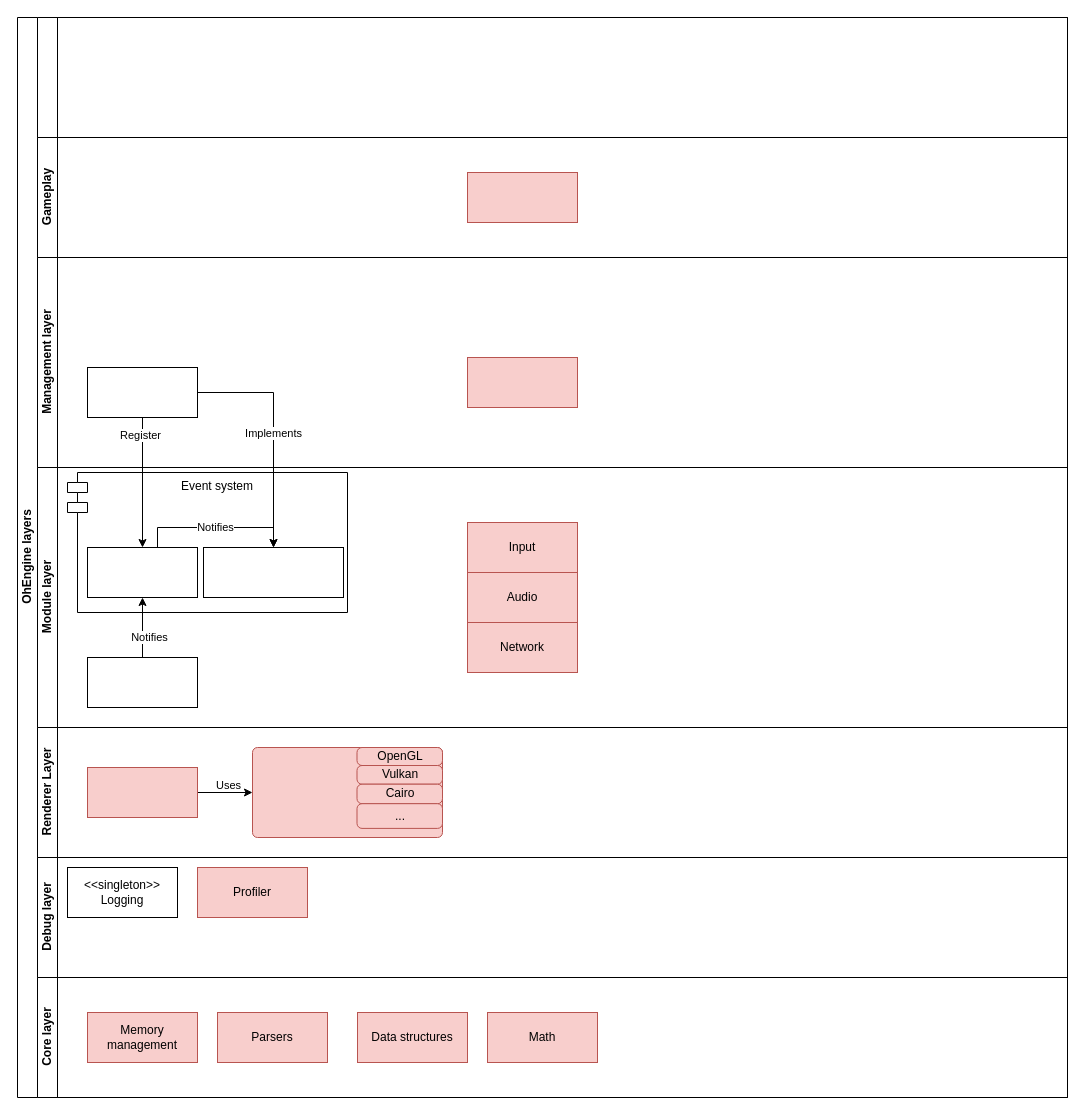
Image size: 1085x1115. Some labels were removed from this diagram. The shapes that lost their labels are listed below. From the top down, each one's centre as x and y in pixels, then its label:
At (552,77): "Lane 1".
At (522,197): "Scripting".
At (142,392): "CApplication".
At (522,382): "Entity component system".
At (142,572): "CEventManager".
At (273,572): "<<interface>> IWindowEventListener".
At (142,682): "CWindow".
At (142,792): "Renderer API".
At (300,784): "Renderes".
